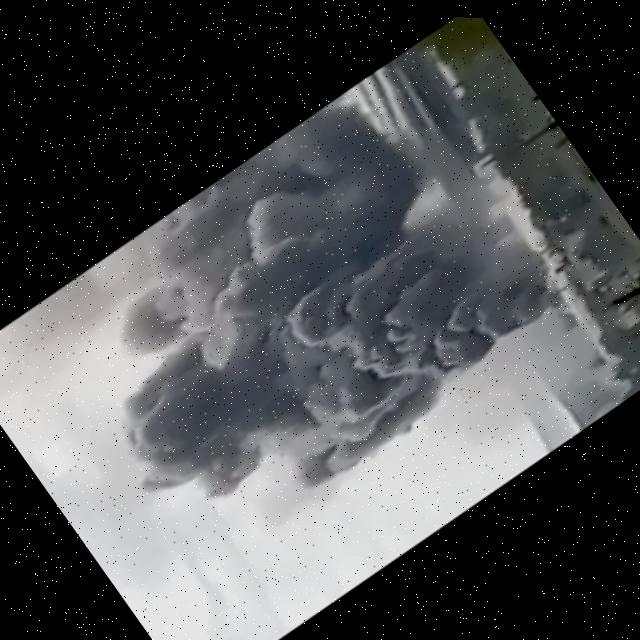Smoke: (23, 48, 574, 582)
